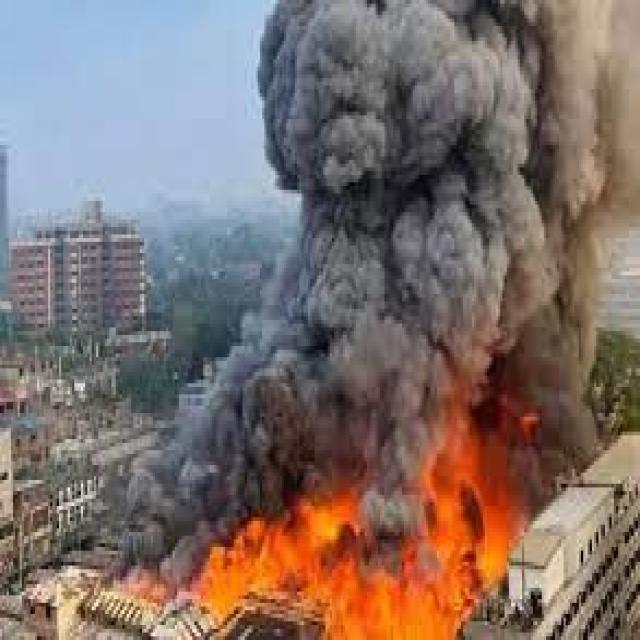Fire: (206, 518, 549, 639)
Smoke: (257, 0, 640, 506)
